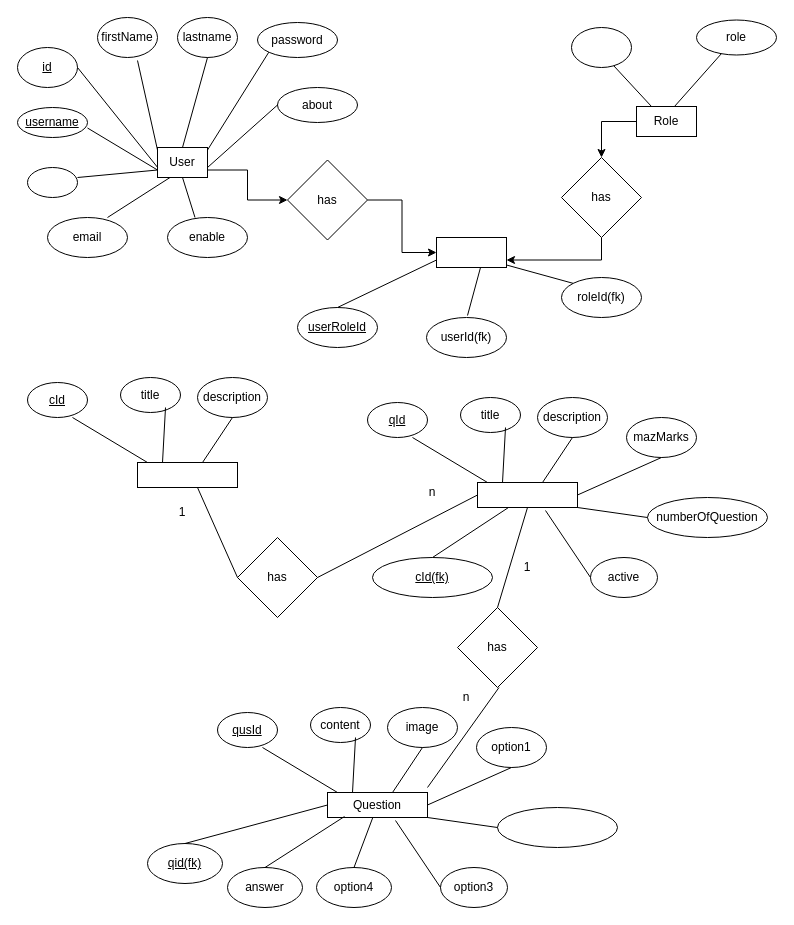
The diagram is 794 pixels wide and 925 high, and some of its shapes have lost their labels. The shapes that lost their labels are listed below. From the top down, each one's centre as x and y in pixels, then its label:
At [601,47]: "roleId".
At [52,182]: "phone".
At [471,252]: "User_Role".
At [187,475]: "Category".
At [527,495]: "Quiz".
At [557,827]: "option2".
